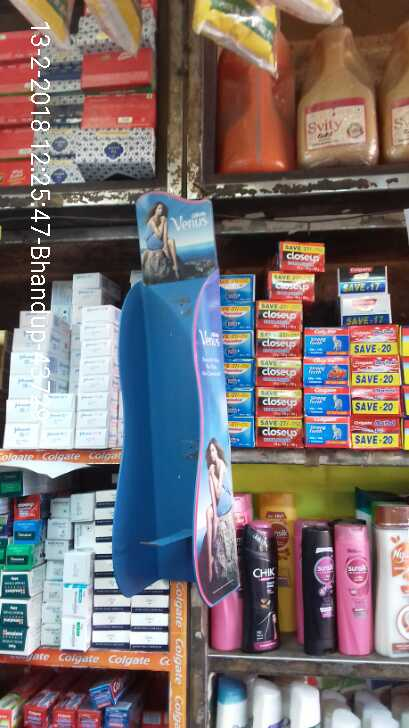reject: (130, 337, 219, 472)
